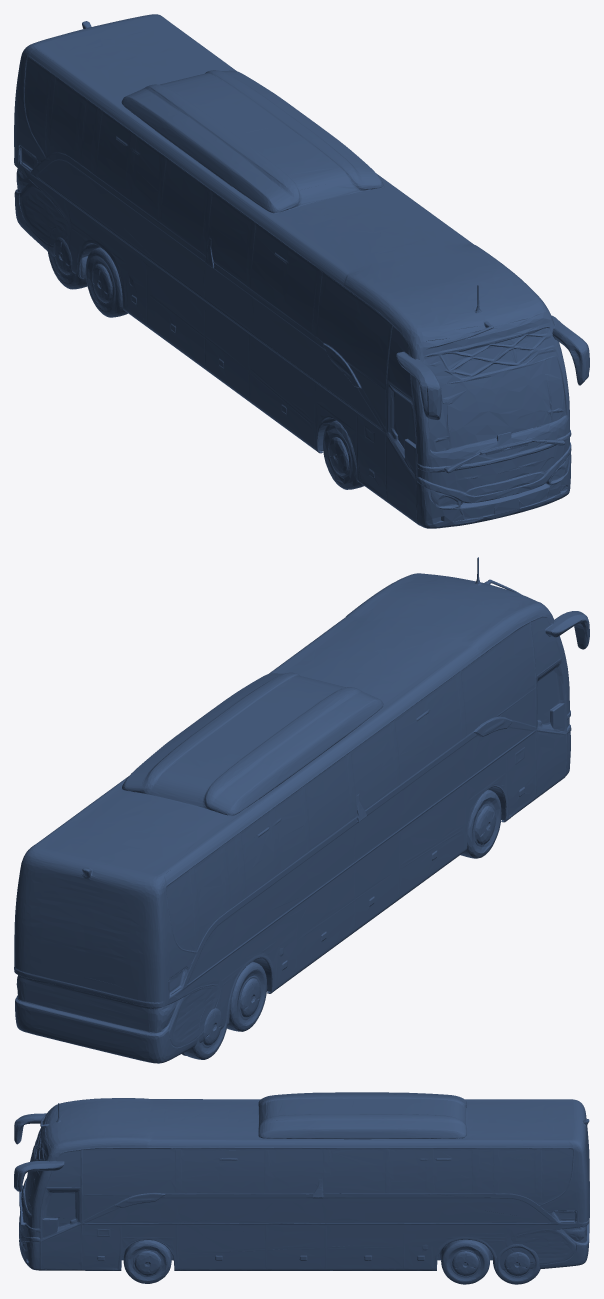
The model's file is setra-s517hd_clay.glb.
The picture shows the model from 3 angles, top to bottom: view 1: azimuth 30°, elevation 25°; view 2: azimuth 150°, elevation 25°; view 3: azimuth 270°, elevation 25°; orthographic projection. The views are drawn at different scales.
Bounding box in the file's own units: 0.2653 × 0.3532 × 1.17.
